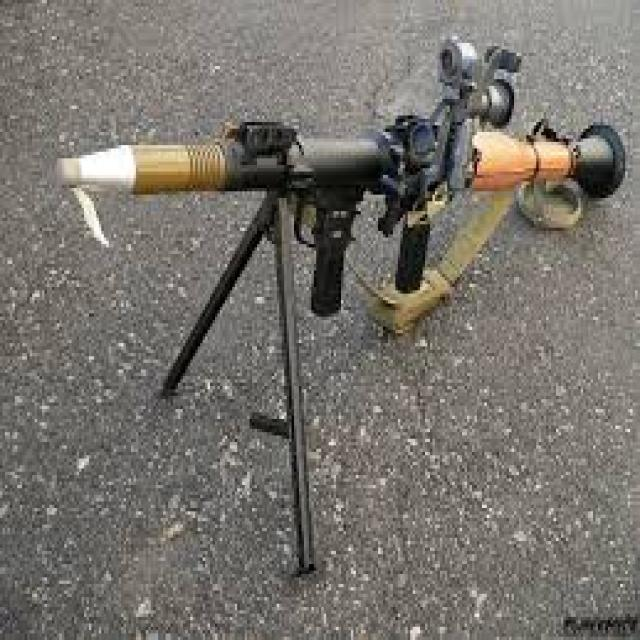Gun: (42, 46, 640, 378)
